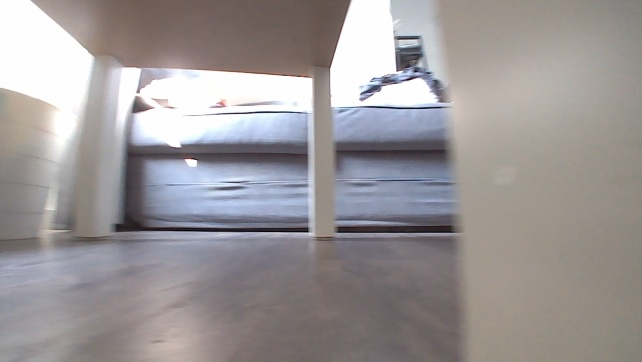sofa1: (120, 67, 455, 228)
